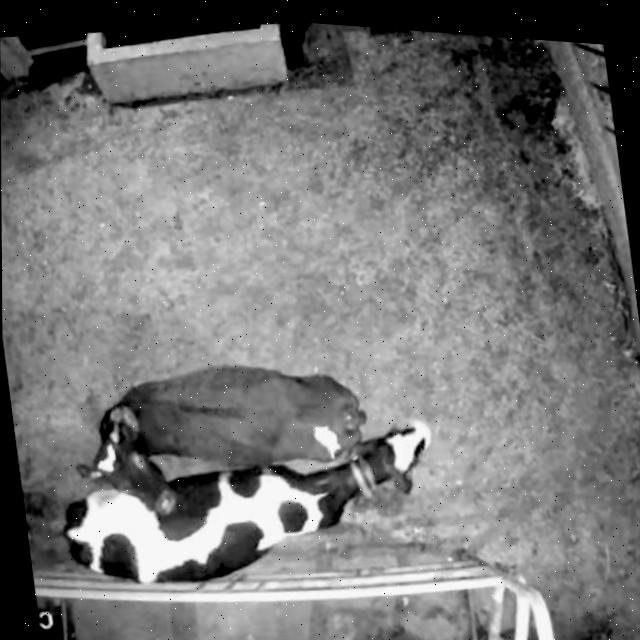propping: (61, 362, 202, 568)
